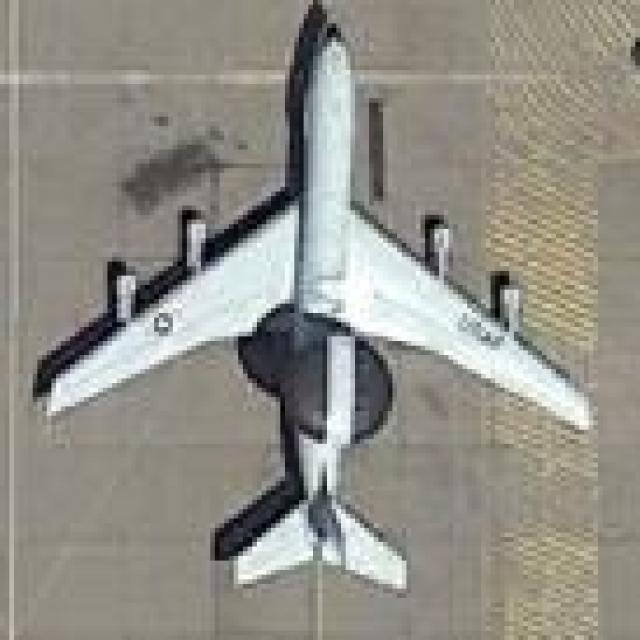E-3_TopDown: (27, 0, 593, 593)
